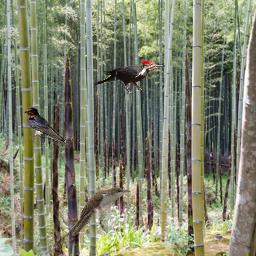Cuckoo: (66, 187, 131, 236)
Swallow: (24, 107, 72, 149)
Woodpecker: (94, 60, 165, 94)
